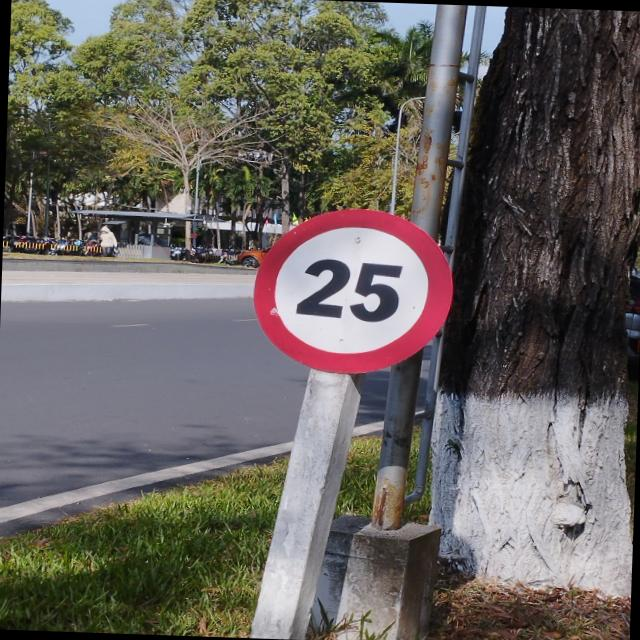Tre_Em: (250, 203, 454, 374)
